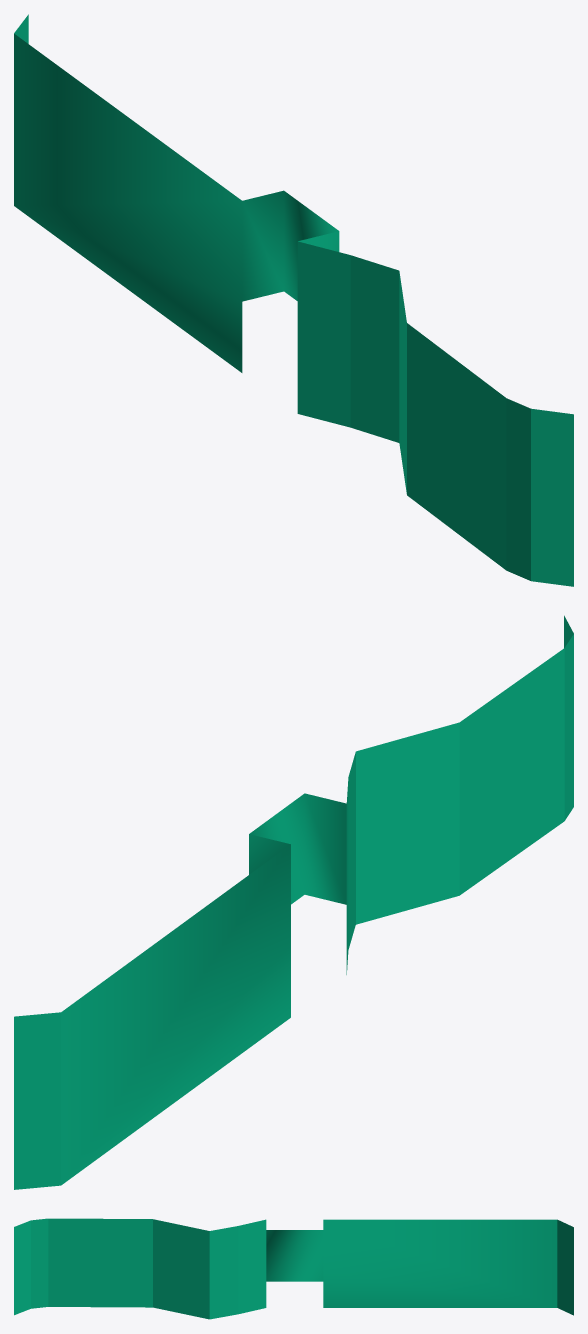
Rendered from M3_Zone4_CliffPoly1.glb.
The picture shows the model from 3 angles, top to bottom: view 1: azimuth 30°, elevation 25°; view 2: azimuth 150°, elevation 25°; view 3: azimuth 270°, elevation 25°; orthographic projection. The views are drawn at different scales.
Parts seen in each view (by area): view 1: M3_ZONE4_CLIFFPOLY1; view 2: M3_ZONE4_CLIFFPOLY1; view 3: M3_ZONE4_CLIFFPOLY1.
Boxes of the visible parts, left/top/right/bottom form: M3_ZONE4_CLIFFPOLY1: left=14, top=14, right=573, bottom=586; M3_ZONE4_CLIFFPOLY1: left=14, top=615, right=573, bottom=1189; M3_ZONE4_CLIFFPOLY1: left=14, top=1218, right=573, bottom=1319.
Bounding box in the file's own units: 8.4 × 27.5 × 158.
